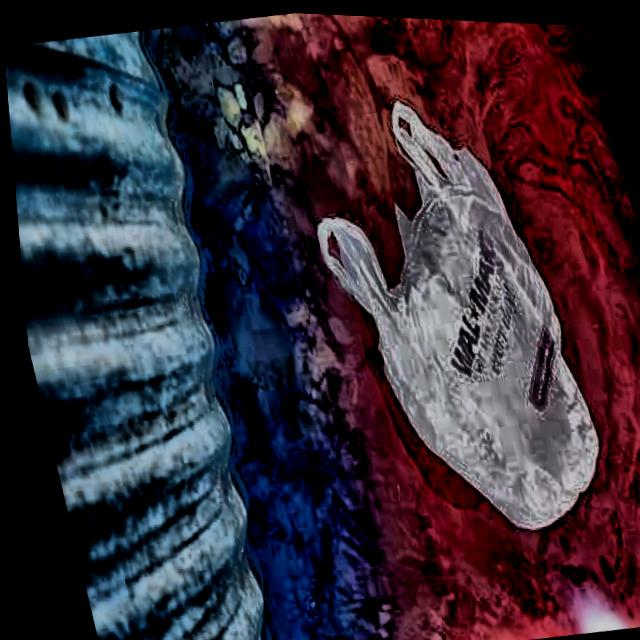Plastic: (279, 59, 638, 573)
